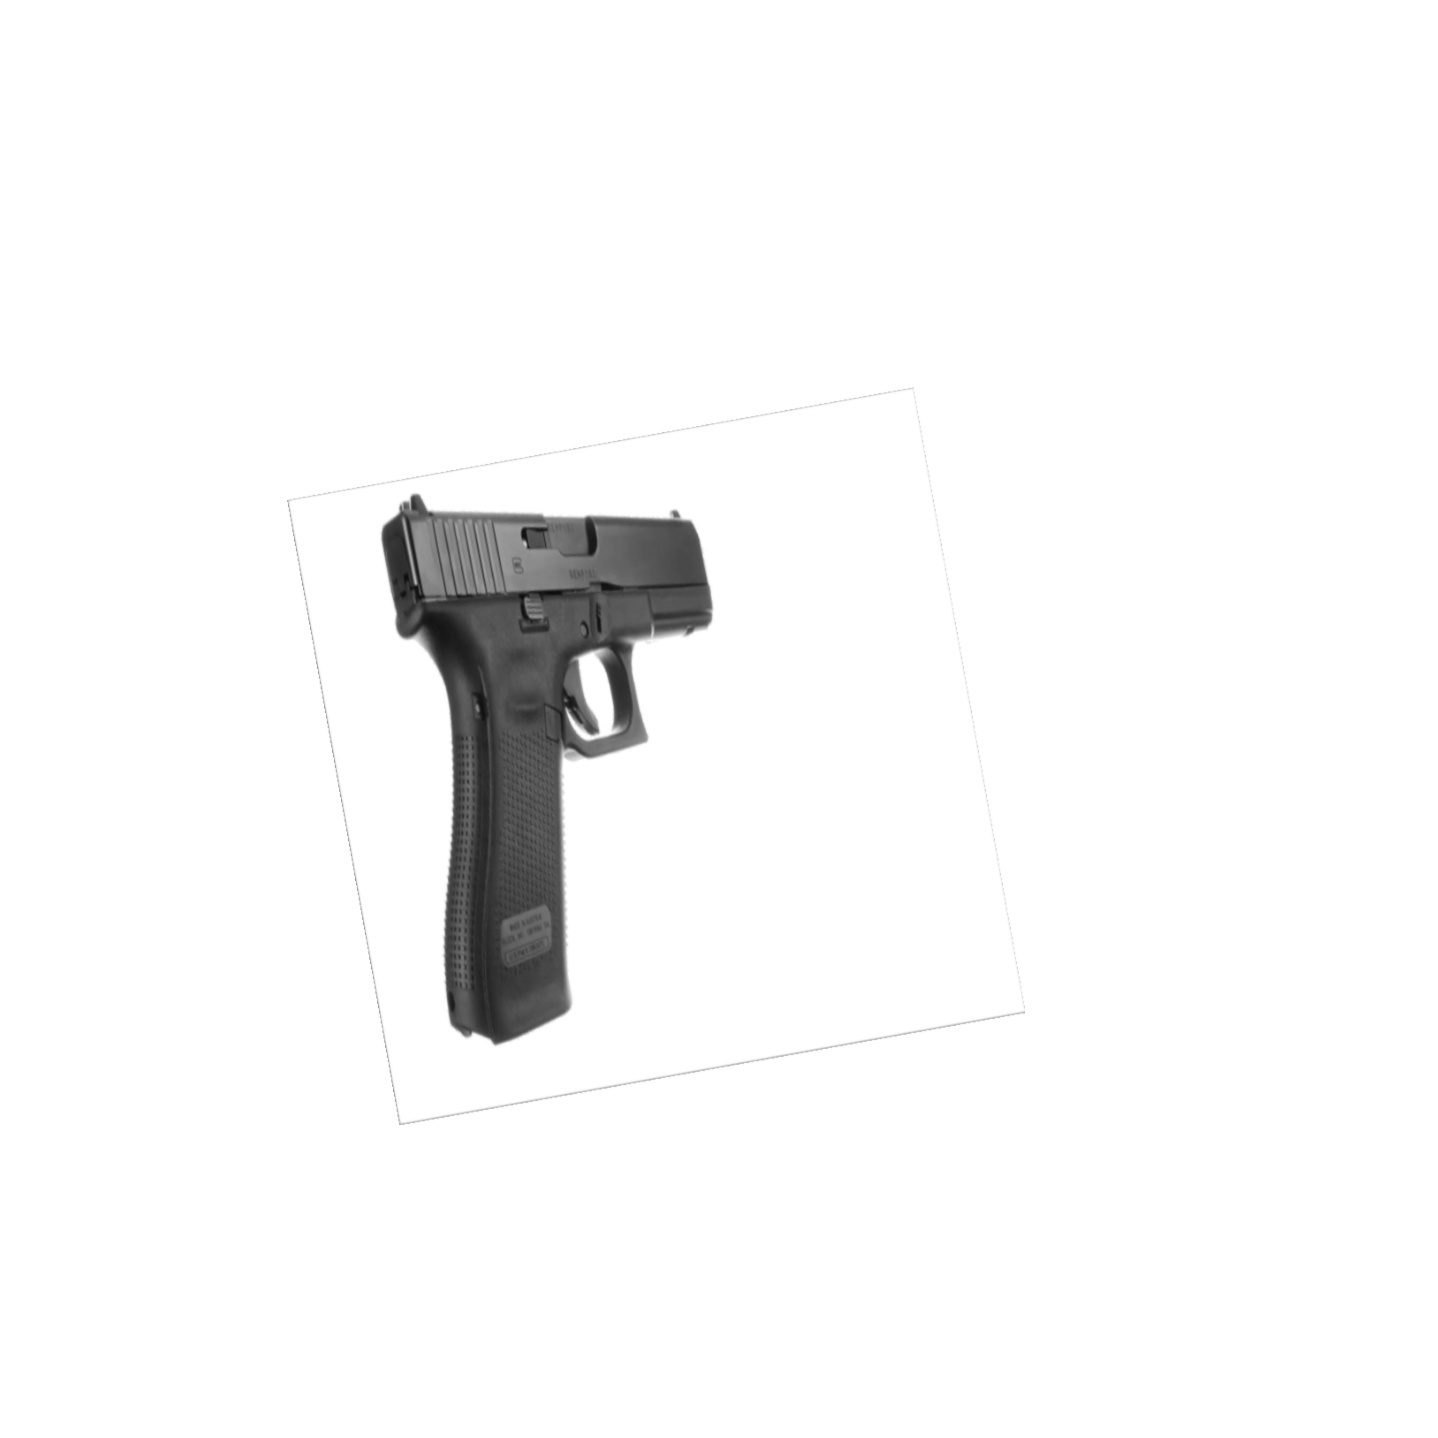gun: (371, 490, 735, 1053)
